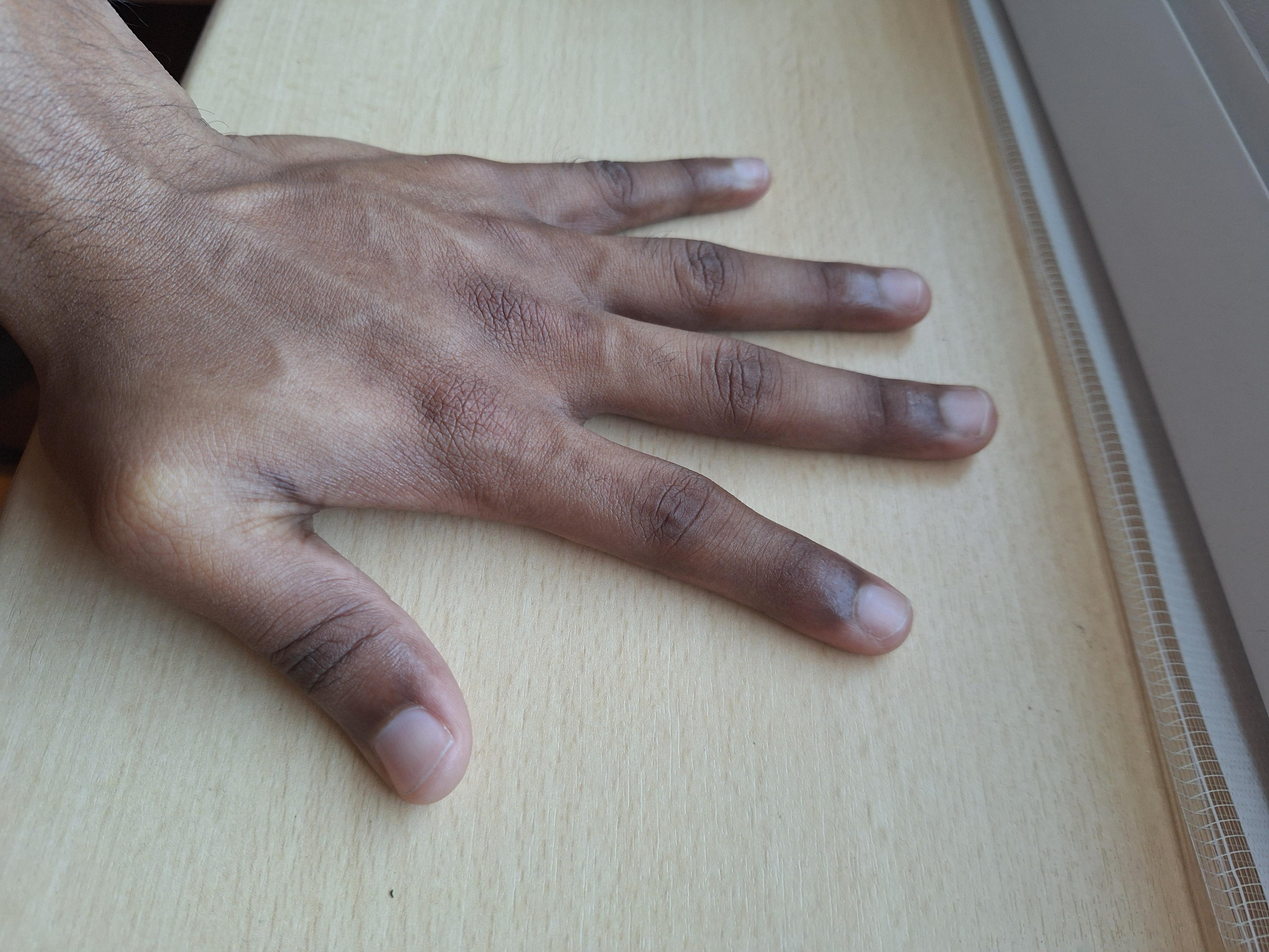Fingernail: (375, 708, 454, 797), (857, 584, 911, 640), (940, 388, 989, 437), (881, 271, 921, 310), (735, 159, 764, 184)
